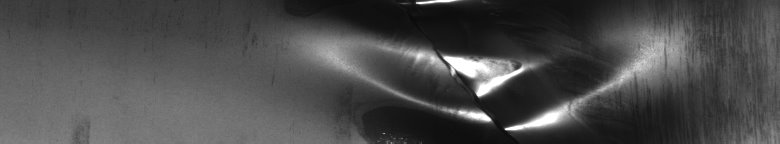ke: (364, 4, 636, 136)
